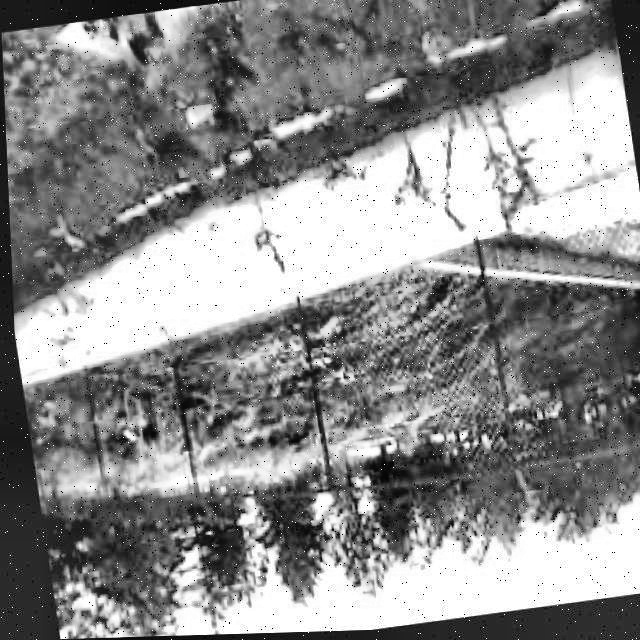Fire: (84, 10, 183, 100)
